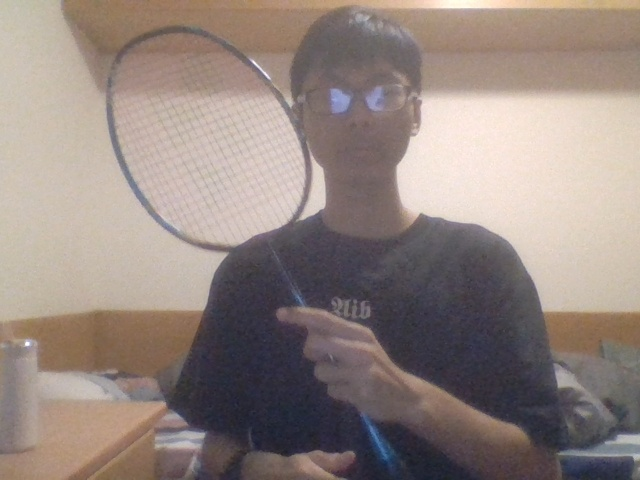human: (169, 6, 567, 480)
racket: (105, 24, 410, 480)
